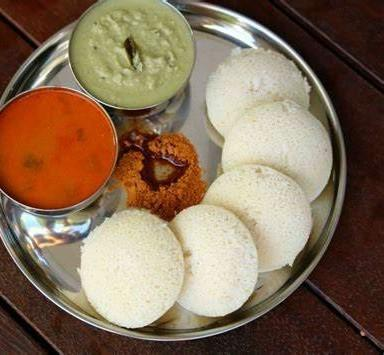CoconutChutney: (71, 0, 194, 107)
Idli: (80, 208, 187, 327), (220, 101, 331, 208), (206, 165, 309, 270), (168, 207, 257, 320), (206, 47, 310, 139)
